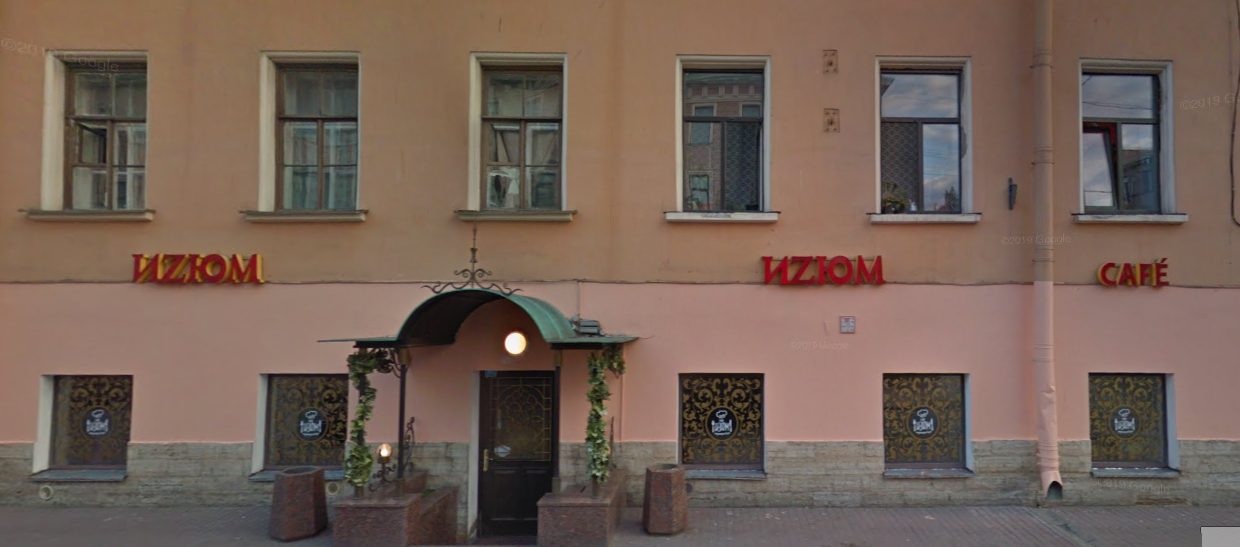door: (476, 369, 559, 536)
signboard: (756, 253, 891, 294), (131, 248, 262, 290), (1092, 251, 1180, 297)
window: (60, 59, 151, 211), (273, 57, 359, 213), (682, 64, 770, 215), (479, 61, 566, 213), (1080, 66, 1165, 215), (879, 67, 960, 217), (258, 371, 347, 472), (887, 376, 971, 474), (1089, 372, 1172, 469), (46, 376, 128, 474), (684, 374, 769, 467)
